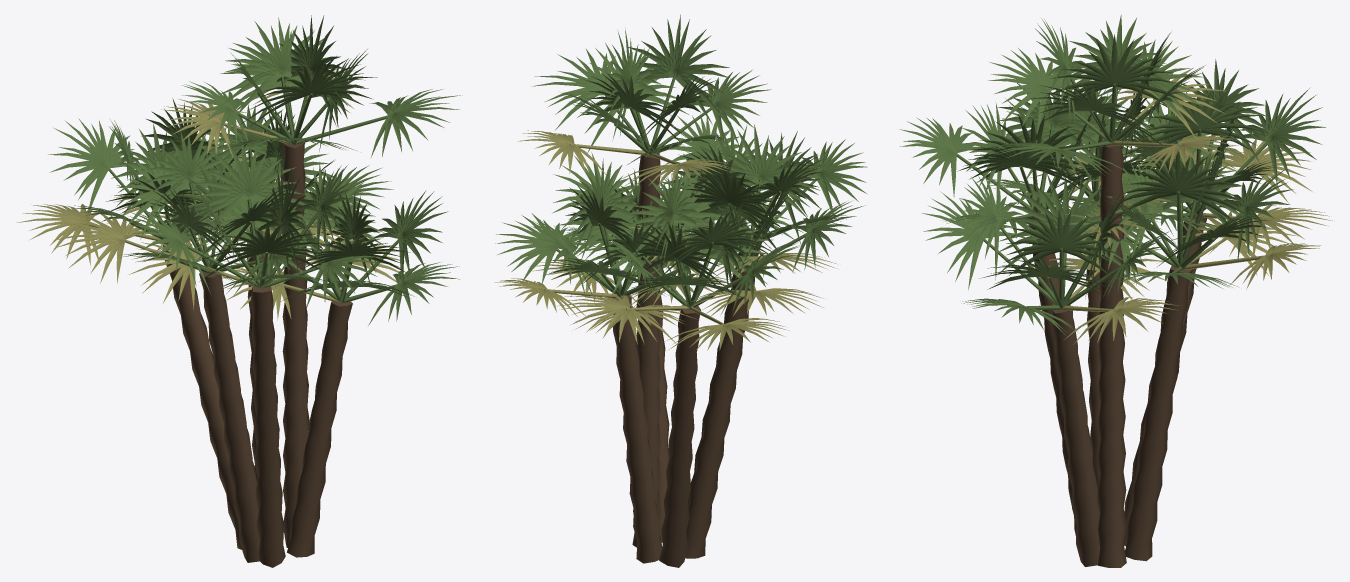
The model's file is fan-palm-clump.glb.
3 renders of one model, left to right at view 1: azimuth 30°, elevation 25°; view 2: azimuth 150°, elevation 25°; view 3: azimuth 270°, elevation 25°, orthographic. The views are drawn at different scales.
Parts seen in each view (by area): view 1: fan-palm-clump-fan-frond, fan-palm-clump-fan-trunk, fan-palm-clump-fan-frond-old; view 2: fan-palm-clump-fan-frond, fan-palm-clump-fan-trunk, fan-palm-clump-fan-frond-old; view 3: fan-palm-clump-fan-frond, fan-palm-clump-fan-trunk, fan-palm-clump-fan-frond-old.
Boxes of the visible parts, box(x1,y1,x2,y2) form: fan-palm-clump-fan-frond: box(48, 15, 462, 325); fan-palm-clump-fan-trunk: box(163, 142, 352, 567); fan-palm-clump-fan-frond-old: box(16, 68, 405, 320); fan-palm-clump-fan-frond: box(495, 14, 867, 314); fan-palm-clump-fan-trunk: box(612, 150, 760, 567); fan-palm-clump-fan-frond-old: box(494, 130, 837, 350); fan-palm-clump-fan-frond: box(899, 14, 1325, 335); fan-palm-clump-fan-trunk: box(1028, 140, 1207, 567); fan-palm-clump-fan-frond-old: box(1030, 67, 1334, 344).
Bounding box in the file's own units: 2.79 × 4.12 × 2.99.
